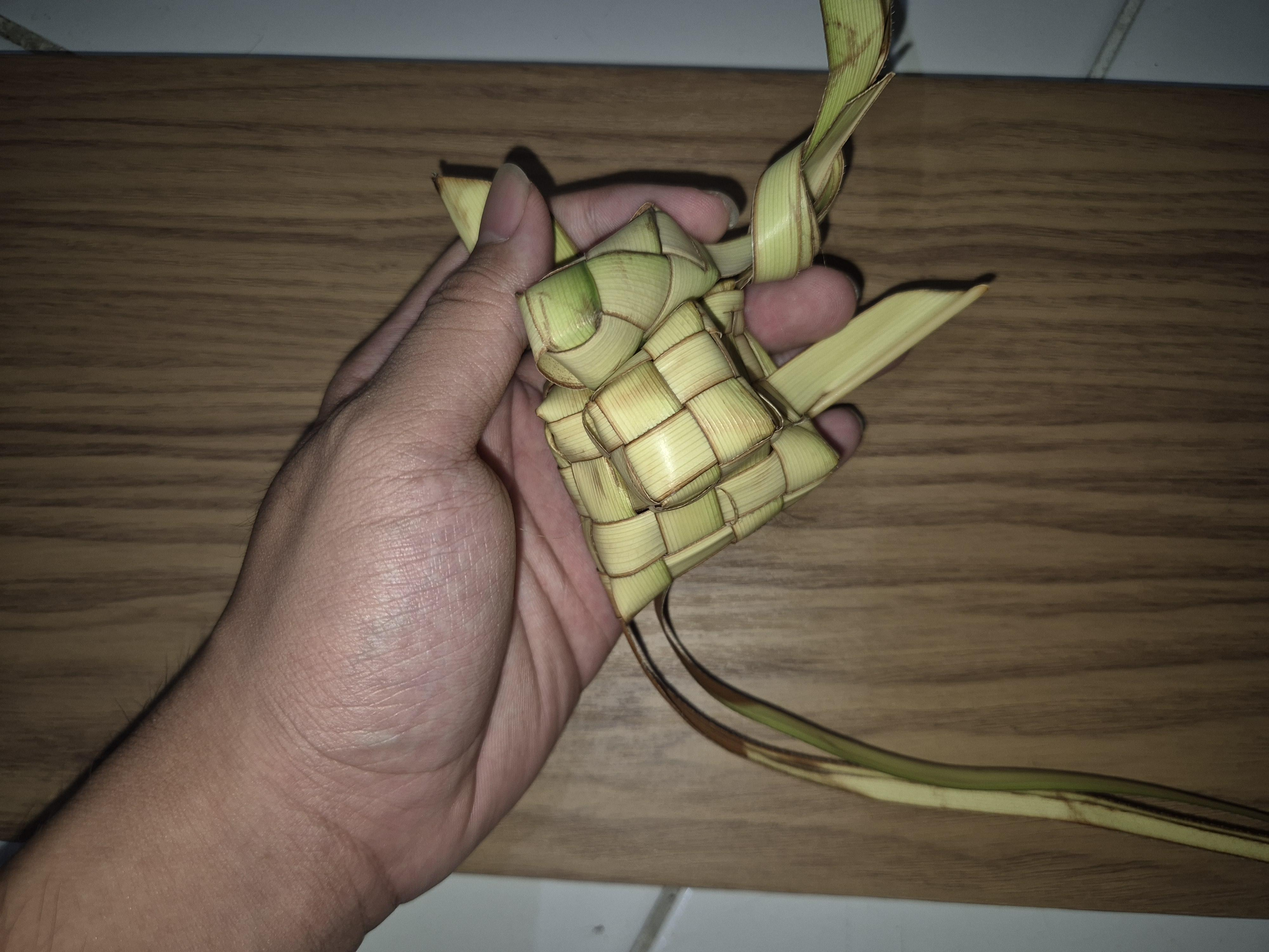Tipat Gong: (445, 390, 990, 629)
